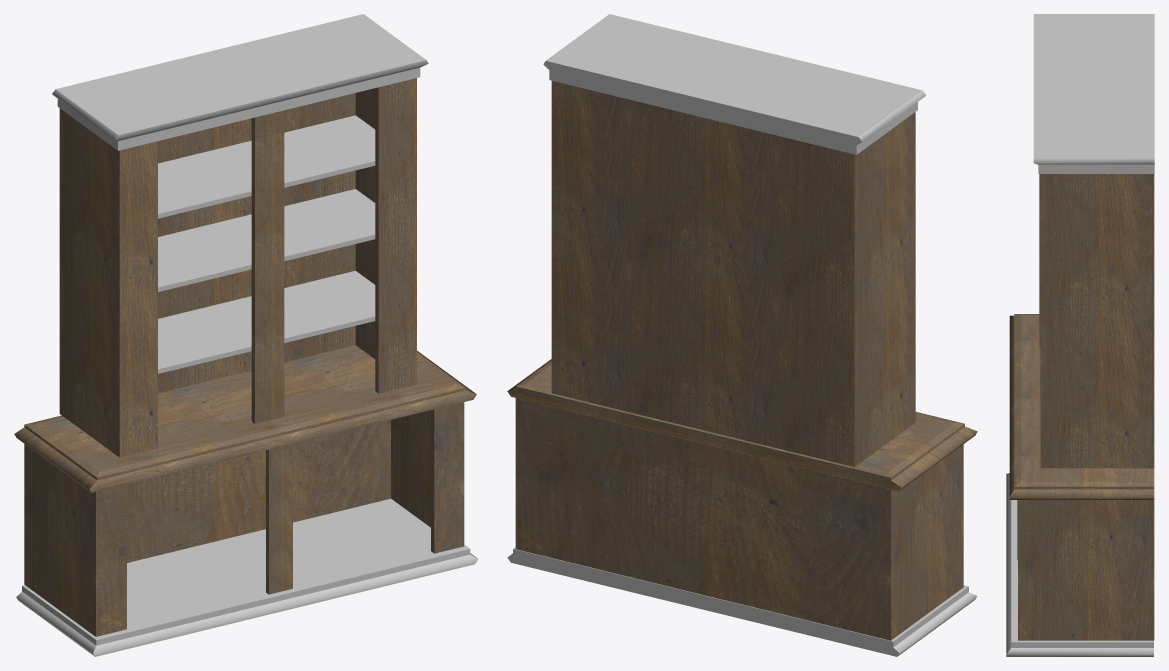
File: ChinaHutch_01_TypeB.DAE
3 views of the same model, side by side, from view 1: azimuth 30°, elevation 25°; view 2: azimuth 150°, elevation 25°; view 3: azimuth 270°, elevation 25° (orthographic). The views are drawn at different scales.
Visible parts, largest first — view 1: CabinetBaseB300; view 2: CabinetBaseB300; view 3: CabinetBaseB300.
Part boxes in pixels (x1=…): CabinetBaseB300: x1=14, y1=14, x2=478, y2=656; CabinetBaseB300: x1=507, y1=14, x2=977, y2=656; CabinetBaseB300: x1=1006, y1=14, x2=1154, y2=656.
Size of what is drawn, in the model's own units: 247 by 84.96 by 305.
